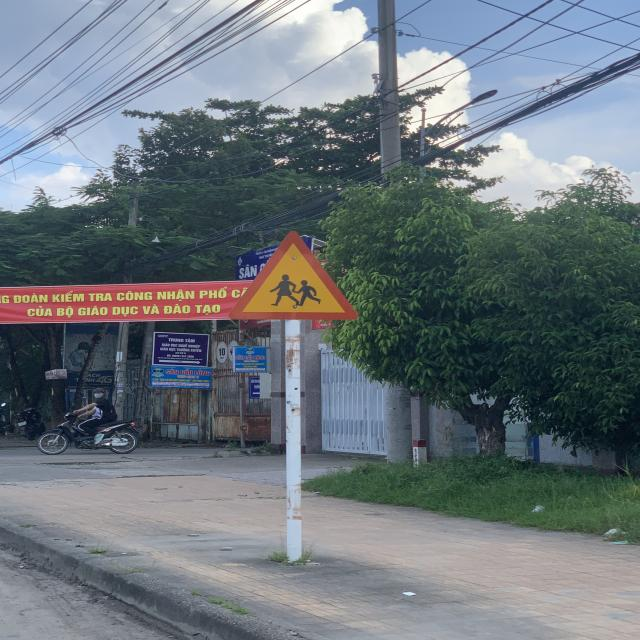Vong_Xuyen: (228, 231, 358, 319)
